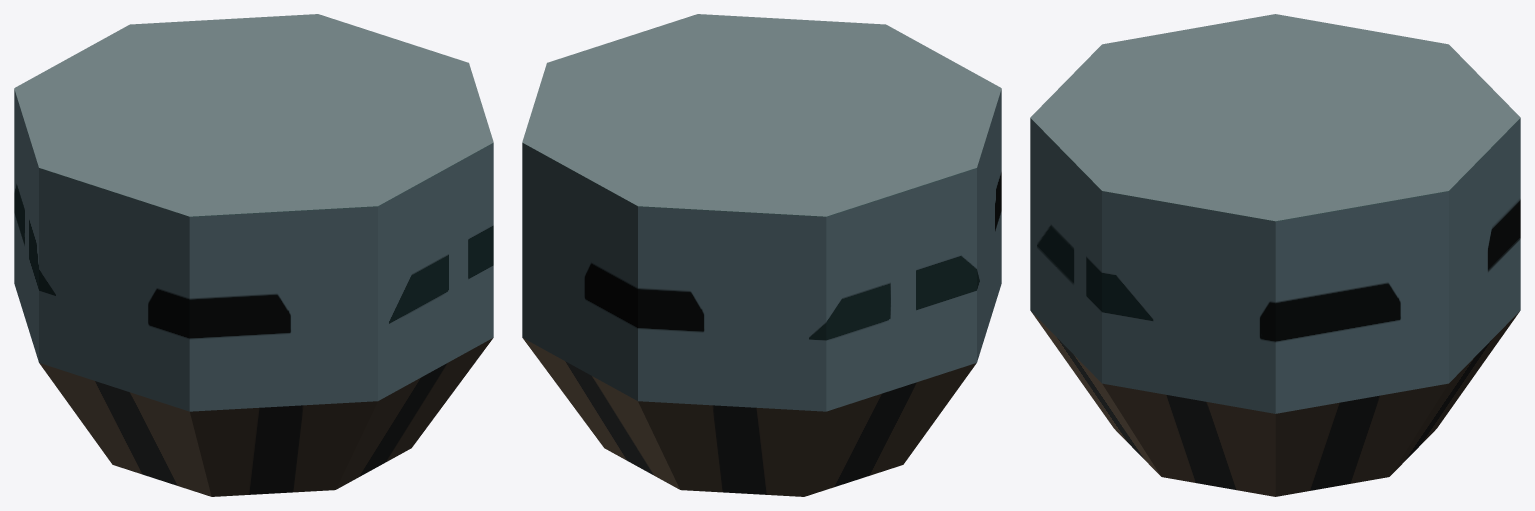
File: Balcony_RopePod.fbx
3 renders of one model, left to right at view 1: azimuth 30°, elevation 25°; view 2: azimuth 150°, elevation 25°; view 3: azimuth 270°, elevation 25°, orthographic.
Visible parts, largest first — view 1: Room_Balcony_RopePod; view 2: Room_Balcony_RopePod; view 3: Room_Balcony_RopePod.
Part boxes in pixels (box(x1,y1,x2,y2)): Room_Balcony_RopePod: box(14, 14, 493, 496); Room_Balcony_RopePod: box(522, 14, 1001, 496); Room_Balcony_RopePod: box(1030, 14, 1520, 496).
Size of the model in its own units: 30 by 21 by 30.
1 material, 1 textured.
